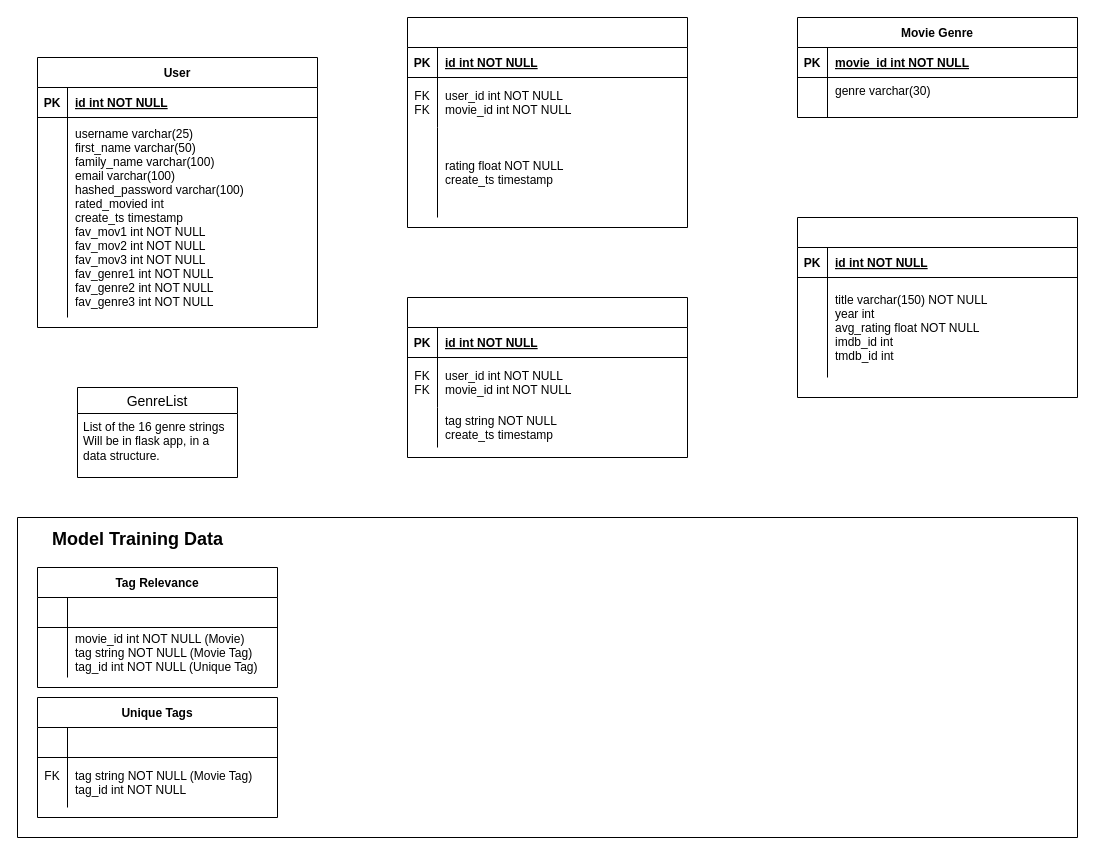
Some shapes in this 1095 by 855 pixel diagram are drawn without their labels. The box of each missing label's shape, as (x1, y1, x2, y2) in pixels:
Movie: (796, 216, 1078, 398)
Movie Rating: (406, 16, 688, 228)
Movie Tag: (406, 296, 688, 458)
